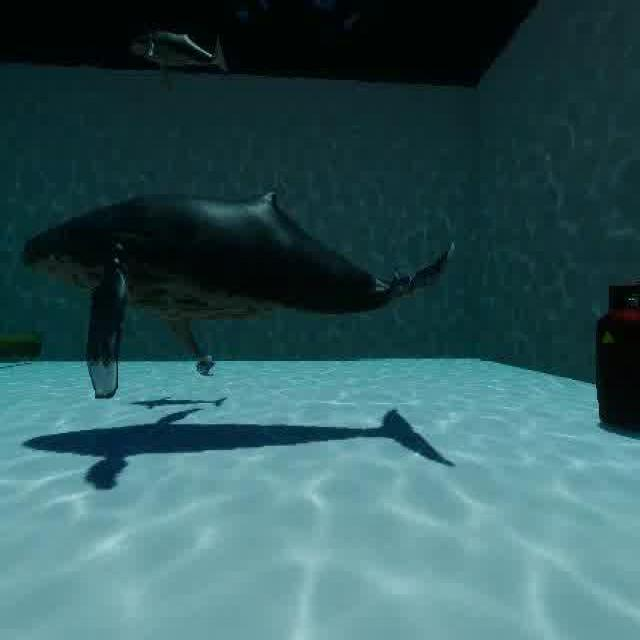Cylinder: (590, 268, 640, 442)
Pipe: (1, 320, 53, 372)
Shell: (194, 352, 220, 379)
Whale: (17, 172, 501, 401), (118, 9, 244, 88)
